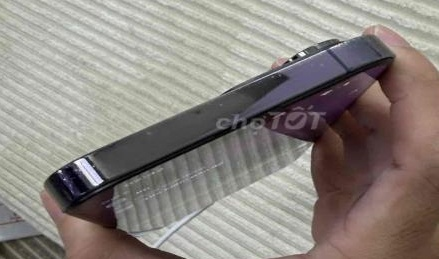scratch: (195, 72, 288, 108), (277, 33, 374, 66), (52, 155, 127, 197), (141, 127, 166, 141)
